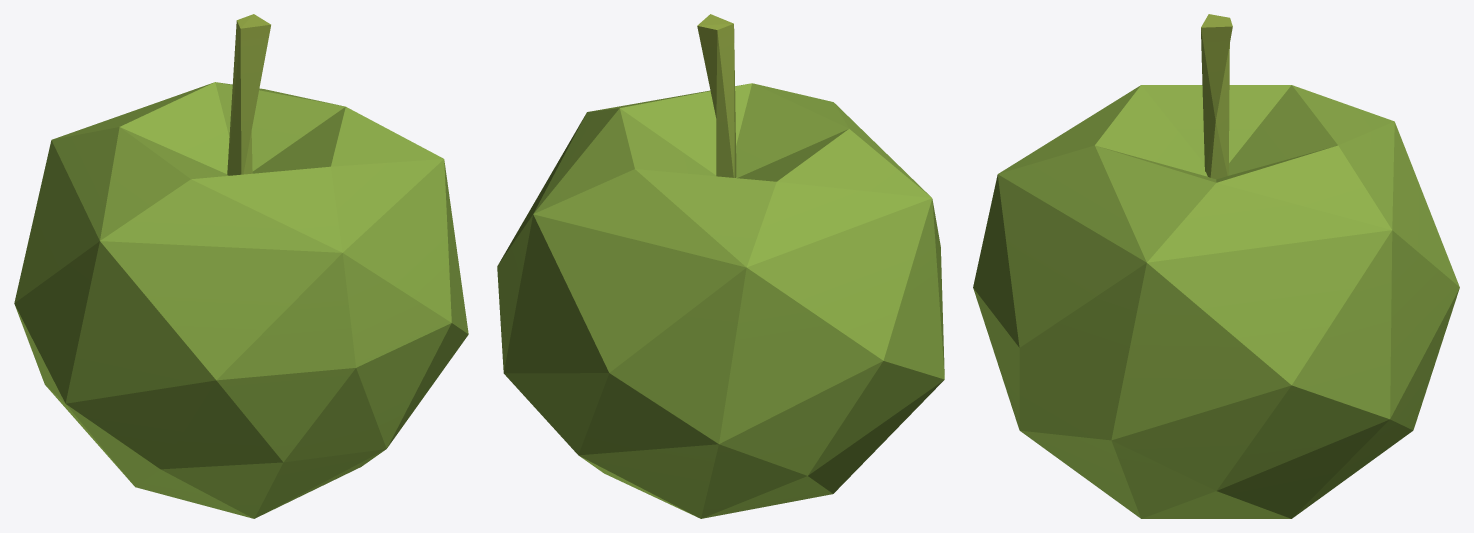
File: Apple_01.fbx
The picture shows the model from 3 angles, left to right: view 1: azimuth 30°, elevation 25°; view 2: azimuth 150°, elevation 25°; view 3: azimuth 270°, elevation 25°; orthographic projection. The views are drawn at different scales.
Visible parts, largest first — view 1: Apple_01; view 2: Apple_01; view 3: Apple_01.
Part boxes in pixels (left/top/right/bottom): Apple_01: left=14, top=14, right=468, bottom=518; Apple_01: left=497, top=14, right=944, bottom=518; Apple_01: left=973, top=14, right=1459, bottom=518.
Size of the model in its own units: 0.1576 by 0.1823 by 0.1638.
